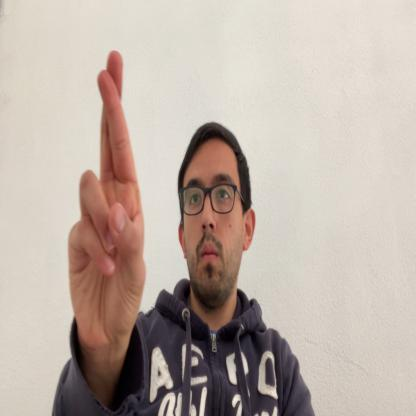R: (68, 46, 144, 372)
